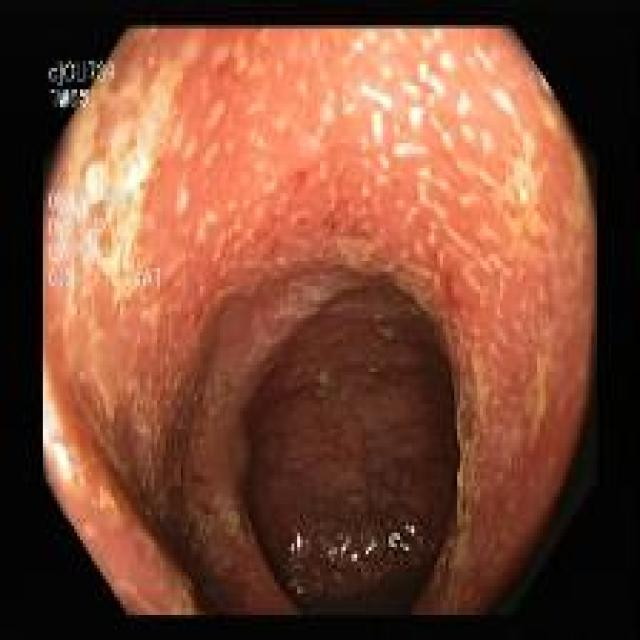ulcerative-colitis: (44, 28, 595, 614)
